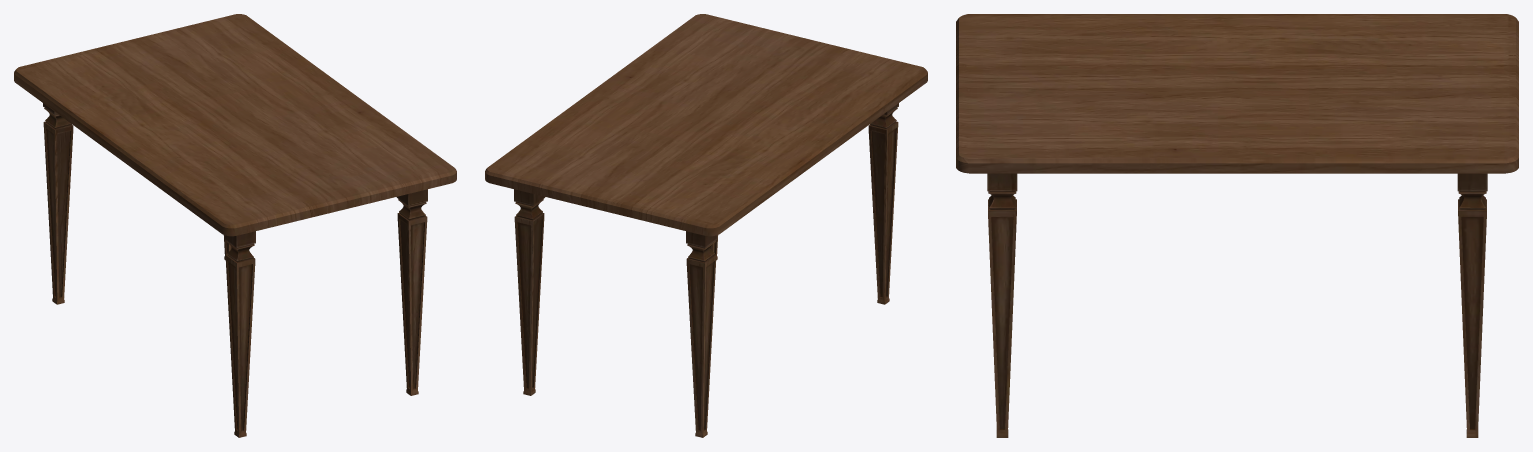
File: classic-table-low.glb
3 views of the same model, side by side, from view 1: azimuth 30°, elevation 25°; view 2: azimuth 150°, elevation 25°; view 3: azimuth 270°, elevation 25° (orthographic). The views are drawn at different scales.
Parts seen in each view (by area): view 1: Box003; view 2: Box003; view 3: Box003.
Part boxes in pixels (x1,y1,x2,y2): Box003: [14, 14, 456, 437]; Box003: [485, 14, 927, 437]; Box003: [956, 14, 1518, 437].
Size of the model in its own units: 0.9755 by 0.9112 by 1.58.
1 material, 1 textured.
